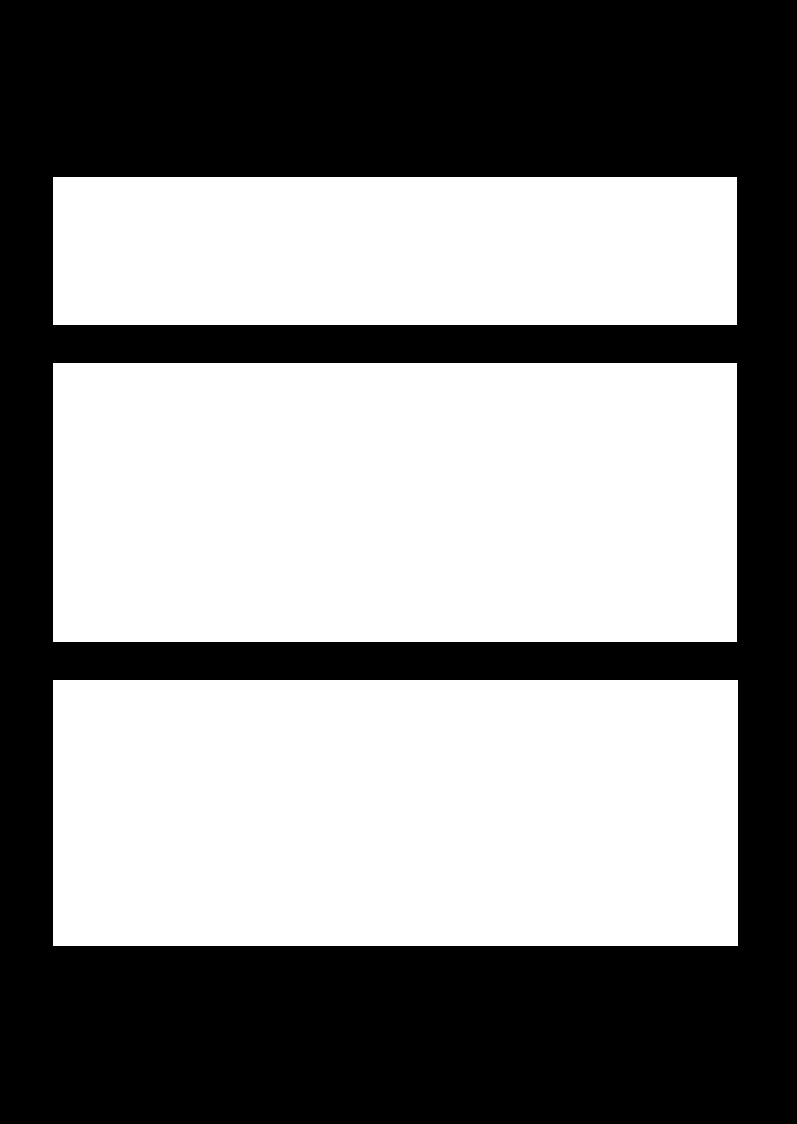table: (53, 363, 736, 641), (53, 680, 737, 945), (53, 177, 736, 324)
